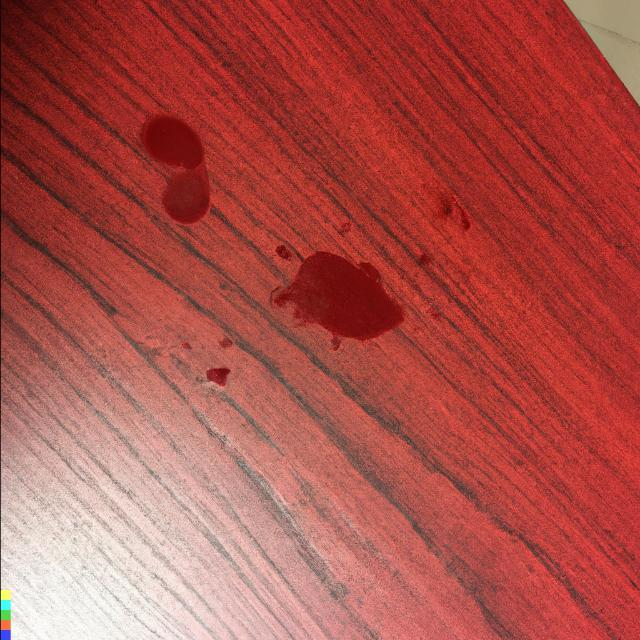blood: (273, 251, 404, 351), (450, 196, 471, 231), (206, 367, 231, 386), (276, 244, 292, 262), (418, 252, 431, 267), (219, 338, 234, 348), (446, 200, 453, 216)
